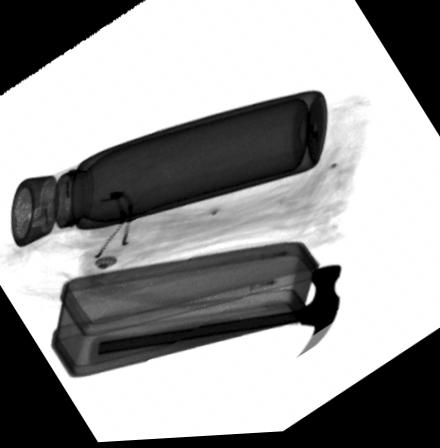Hammer: (96, 265, 344, 363)
